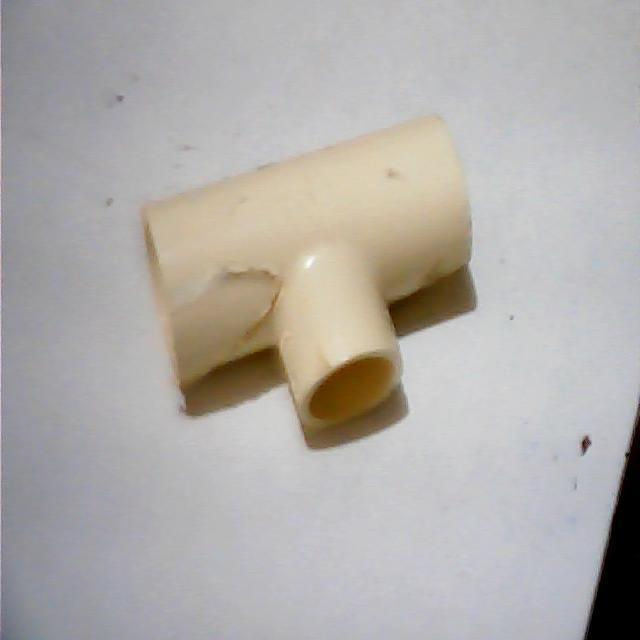Defective: (160, 257, 282, 375)
T Joint: (141, 116, 472, 433)
